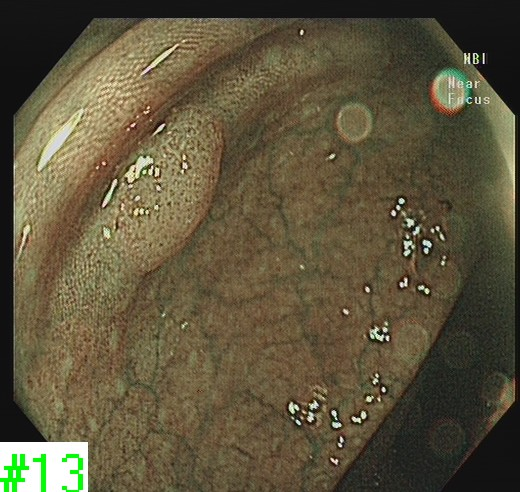adenoma: (108, 107, 225, 275)
